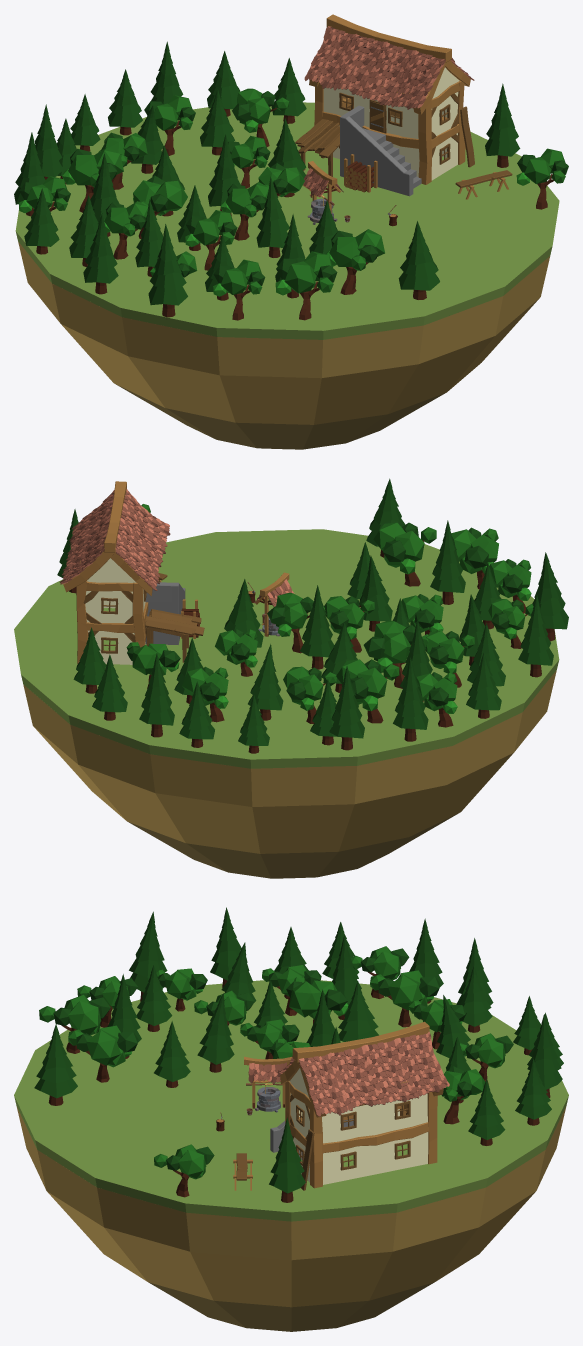
3 views of the same model, one above another, from view 1: azimuth 30°, elevation 25°; view 2: azimuth 150°, elevation 25°; view 3: azimuth 270°, elevation 25° (orthographic).
Parts seen in each view (by area): view 1: Floor_Grass_0; view 2: Floor_Grass_0; view 3: Floor_Grass_0.
Boxes of the visible parts, x1=… form: Floor_Grass_0: x1=14, y1=14, x2=568, y2=449; Floor_Grass_0: x1=14, y1=478, x2=568, y2=878; Floor_Grass_0: x1=14, y1=907, x2=568, y2=1331.
Size of the model in its own units: 4420 by 3082 by 4420.
